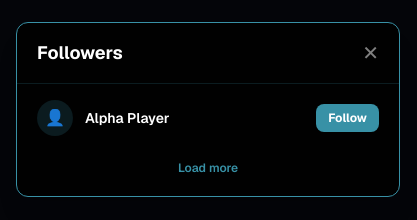
Scenario: <FollowListModal /> rendering › Load More requests the stored cursor and appends users without leaking injected fields
Expected: the text "Alpha Player" is shown, [85, 108, 170, 128]
Step 1. Click the button "Load more" → (208, 168), box [29, 148, 387, 188]
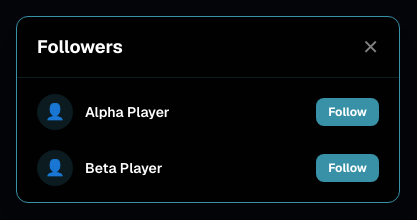
Expected: the text "Alpha Player" is shown, [85, 102, 170, 122]
Expected: the text "Beta Player" is shown, [85, 158, 162, 178]
Expected: the button "Load more" is gone
